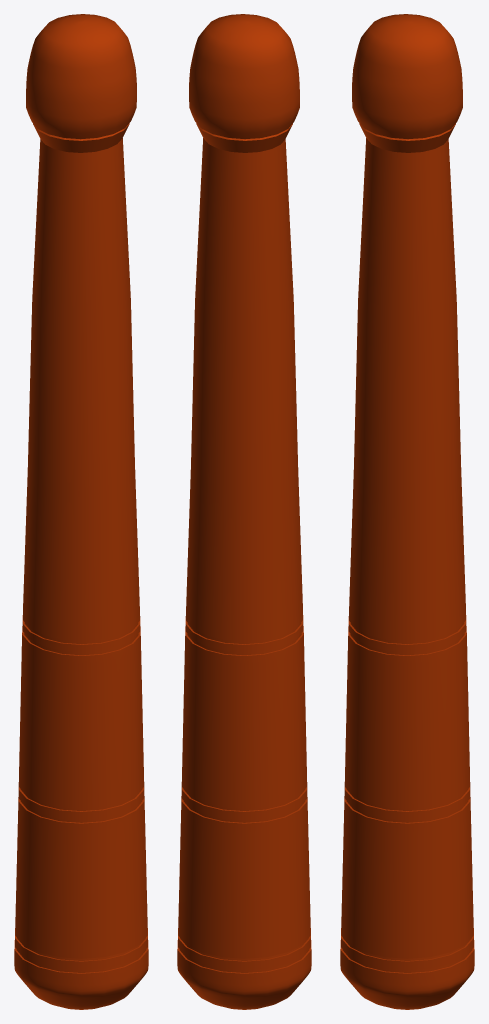
Rendered from DuiTrong.fbx.
The picture shows the model from 3 angles, left to right: view 1: azimuth 30°, elevation 25°; view 2: azimuth 150°, elevation 25°; view 3: azimuth 330°, elevation 25°; orthographic projection.
Visible parts, largest first — view 1: DuiTrong; view 2: DuiTrong; view 3: DuiTrong.
Boxes of the visible parts, x1,y1,x2,y2 form: DuiTrong: [14, 14, 148, 1009]; DuiTrong: [177, 14, 311, 1009]; DuiTrong: [340, 14, 474, 1009].
Bounding box in the file's own units: 13.7 × 109 × 13.49.
